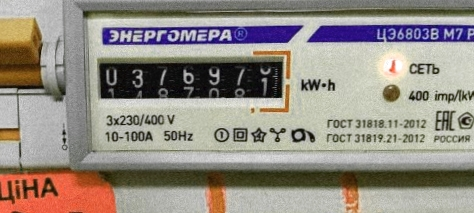0: (102, 64, 118, 85)
1: (258, 75, 270, 96)
3: (129, 66, 144, 89)
6: (181, 63, 194, 84)
7: (155, 62, 169, 86), (232, 63, 246, 86)
9: (206, 63, 220, 85)
screen: (90, 47, 294, 119)
